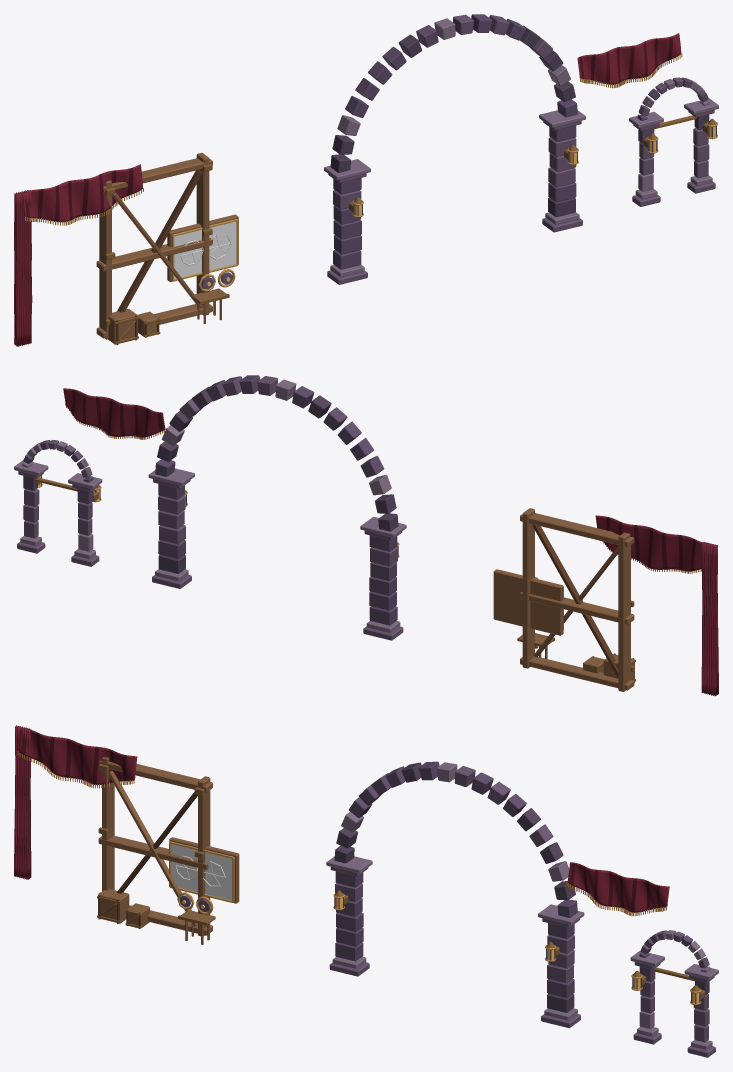
File: SM_Workshop_WheelHall.fbx
The picture shows the model from 3 angles, top to bottom: view 1: azimuth 30°, elevation 25°; view 2: azimuth 150°, elevation 25°; view 3: azimuth 330°, elevation 25°; orthographic projection.
Parts seen in each view (by area): view 1: SM_Workshop_WheelHall; view 2: SM_Workshop_WheelHall; view 3: SM_Workshop_WheelHall.
Part boxes in pixels (box(x1,y1,x2,y2)): SM_Workshop_WheelHall: box(14, 14, 718, 346); SM_Workshop_WheelHall: box(14, 375, 718, 696); SM_Workshop_WheelHall: box(14, 725, 718, 1057).
Size of the model in its own units: 2459 by 134 by 769.
